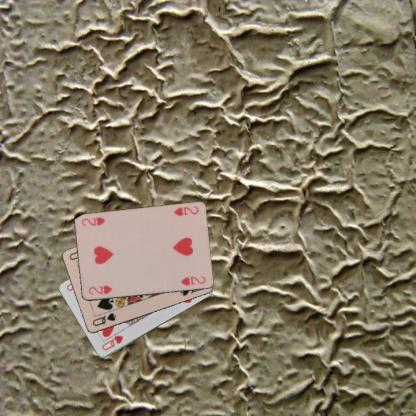2h: (171, 204, 199, 218), (86, 283, 113, 296)
Qh: (99, 333, 125, 352)
Qs: (90, 310, 117, 328)
